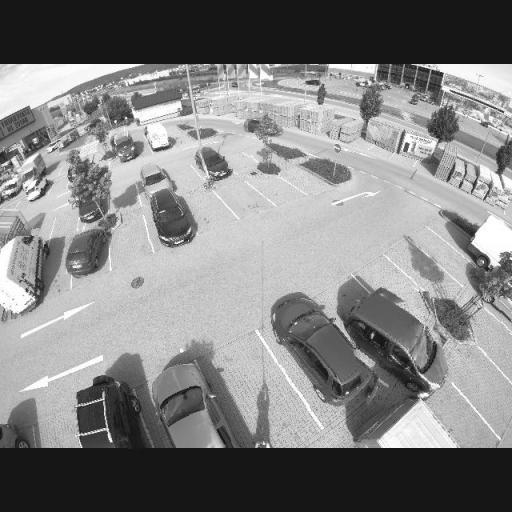busy: (347, 287, 447, 403), (276, 306, 374, 406), (147, 357, 231, 448), (66, 374, 145, 448), (0, 230, 52, 318), (144, 180, 198, 246), (62, 222, 110, 280), (193, 146, 233, 182), (490, 287, 512, 334), (110, 130, 142, 162), (75, 193, 107, 223), (136, 164, 170, 192), (144, 126, 173, 151), (22, 176, 52, 200), (0, 174, 22, 201)
free: (228, 364, 286, 418), (465, 372, 501, 401), (441, 402, 473, 432), (112, 226, 146, 254), (382, 278, 415, 304), (481, 326, 506, 360), (419, 268, 445, 292), (250, 146, 281, 164), (110, 187, 136, 207), (228, 189, 255, 208), (194, 202, 222, 220), (56, 209, 78, 231), (176, 170, 202, 187), (262, 182, 287, 197), (433, 246, 455, 263), (176, 138, 192, 154), (294, 176, 314, 188), (229, 158, 246, 168)
